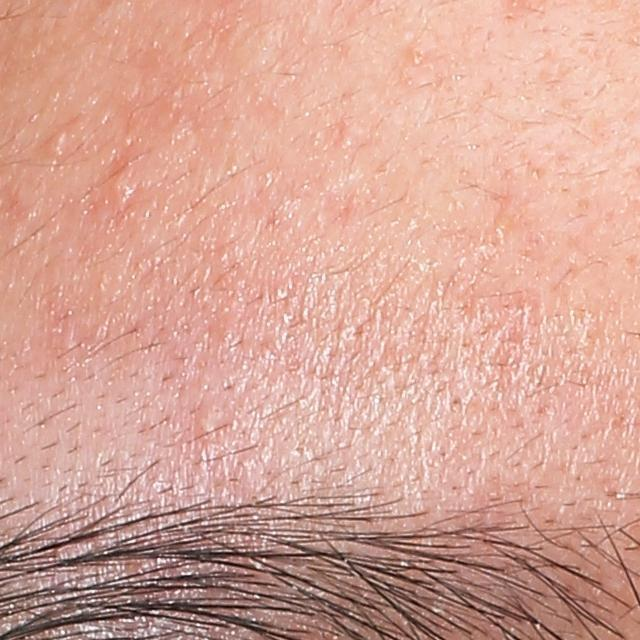comedo: (44, 130, 72, 162), (106, 168, 131, 202), (402, 41, 430, 71)
